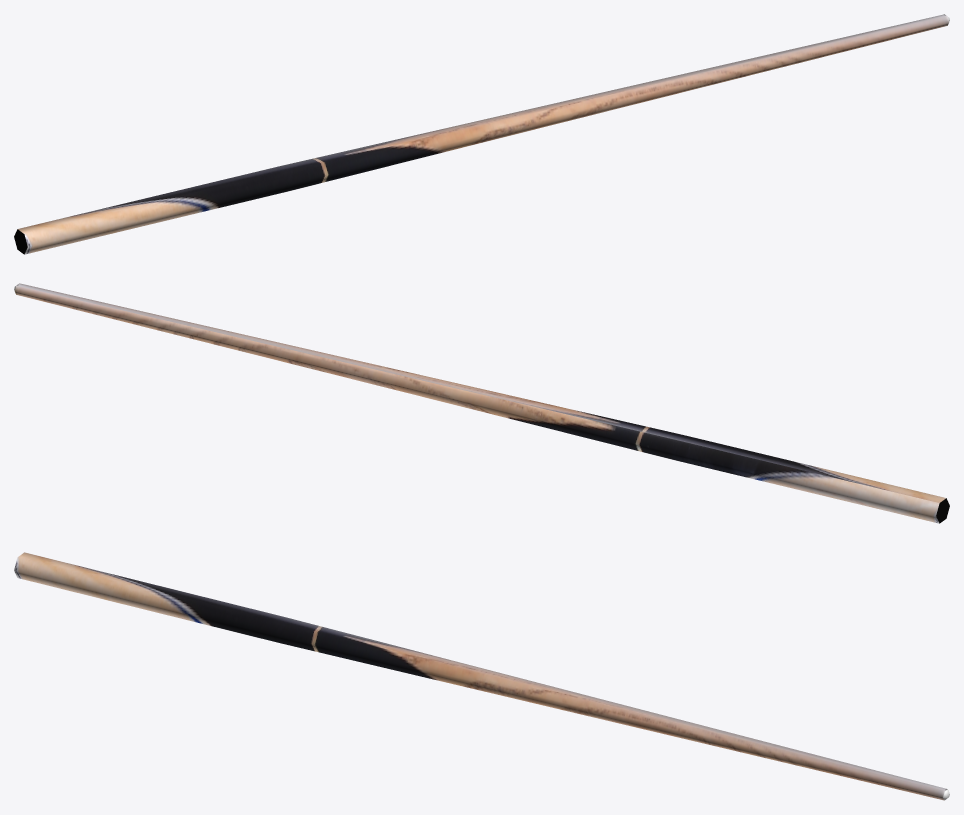
Rendered from Billiard_Stick.glb.
The picture shows the model from 3 angles, top to bottom: view 1: azimuth 30°, elevation 25°; view 2: azimuth 150°, elevation 25°; view 3: azimuth 330°, elevation 25°; orthographic projection.
Visible parts, largest first — view 1: Billiard_Stick1_Material_#39_0; view 2: Billiard_Stick1_Material_#39_0; view 3: Billiard_Stick1_Material_#39_0.
Boxes of the visible parts, x1,y1,x2,y2 form: Billiard_Stick1_Material_#39_0: (14,14,949,254); Billiard_Stick1_Material_#39_0: (14,283,949,523); Billiard_Stick1_Material_#39_0: (14,552,949,800).
Bounding box in the file's own units: 1.36 × 0.0304 × 0.0352.
1 material, 1 textured.
